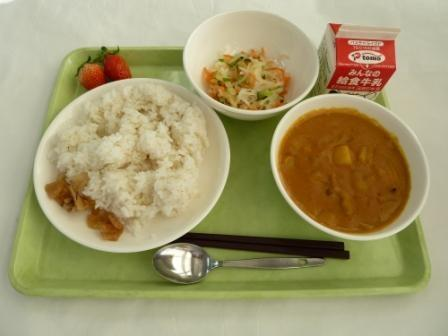Curry: (278, 98, 431, 236)
Milk: (313, 17, 407, 104)
Rice: (54, 91, 204, 208)
Salad: (177, 10, 310, 112)
strawberry: (63, 44, 137, 97)
